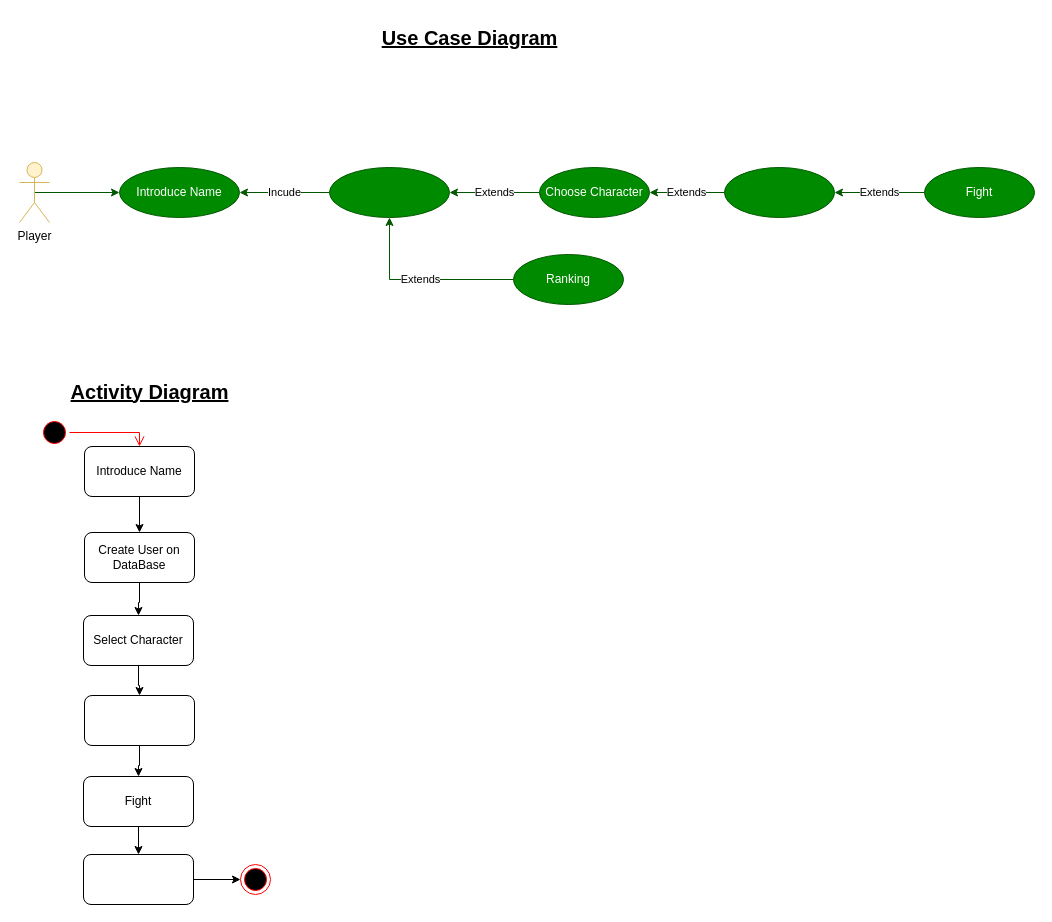
This 1052x922 diagram has some shape labels left out. Here are the shapes that lost their labels. From the top down, the centre of each, then its label:
At (389,192): "User Creation (DataBase)".
At (779,192): "Choose Weapon".
At (139,720): "Select Weapon".
At (138,879): "View Ranking".
